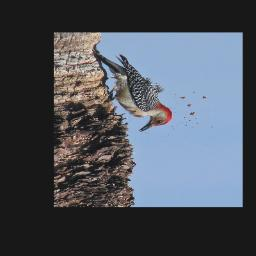Woodpecker: (91, 50, 174, 132)
